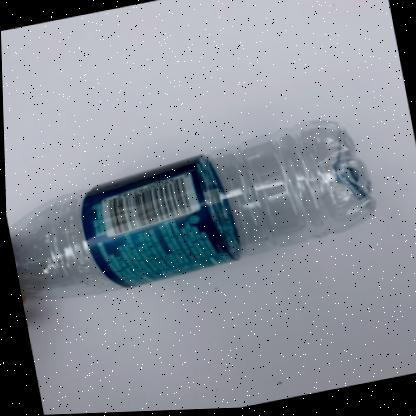Plastic: (7, 123, 373, 298)
